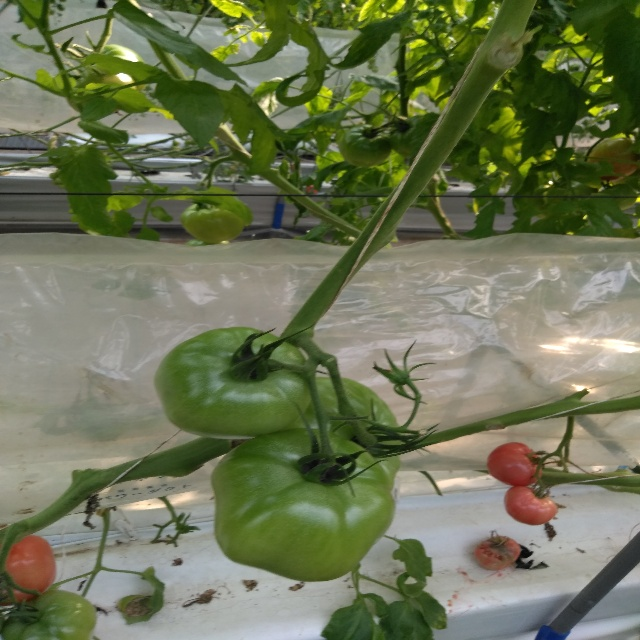b_fully_ripened: (486, 442, 542, 486), (504, 485, 558, 525)
b_green: (209, 428, 396, 582), (153, 327, 316, 439), (283, 376, 405, 488), (0, 589, 97, 640), (180, 202, 246, 244), (339, 124, 391, 168), (387, 115, 426, 160)
b_half_ripened: (0, 534, 57, 607)
